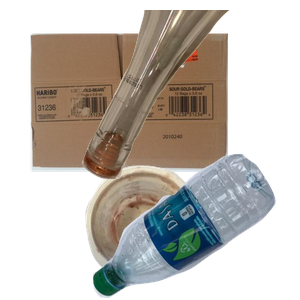cardboard: (28, 31, 249, 195)
glass: (80, 10, 300, 182)
plastic: (90, 154, 300, 300)
trash: (83, 163, 276, 300)
